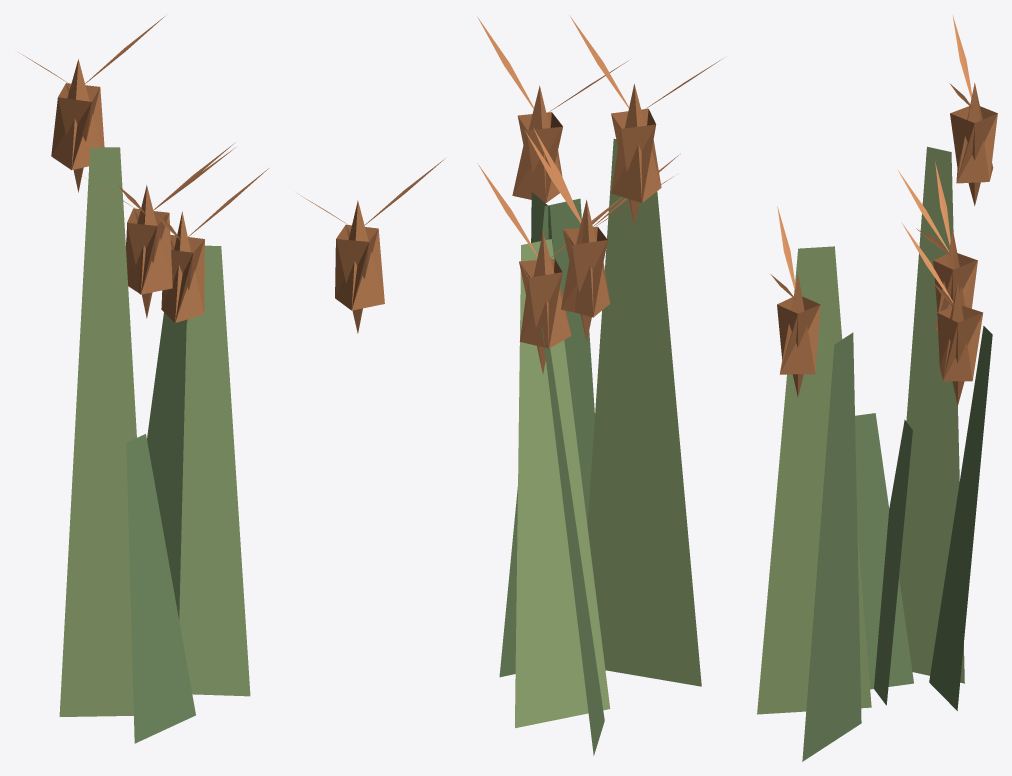
File: nong.mai@fruiting__spring.glb
3 views of the same model, side by side, from view 1: azimuth 30°, elevation 25°; view 2: azimuth 150°, elevation 25°; view 3: azimuth 270°, elevation 25° (orthographic). The views are drawn at different scales.
Visible parts, largest first — view 1: nong.mai@fruiting__spring; view 2: nong.mai@fruiting__spring; view 3: nong.mai@fruiting__spring.
Boxes of the visible parts, bbox=[...] form: nong.mai@fruiting__spring: bbox=[18, 16, 445, 743]; nong.mai@fruiting__spring: bbox=[477, 15, 723, 755]; nong.mai@fruiting__spring: bbox=[757, 15, 997, 761].
Size of the model in its own units: 0.5635 by 1.09 by 0.3787.
